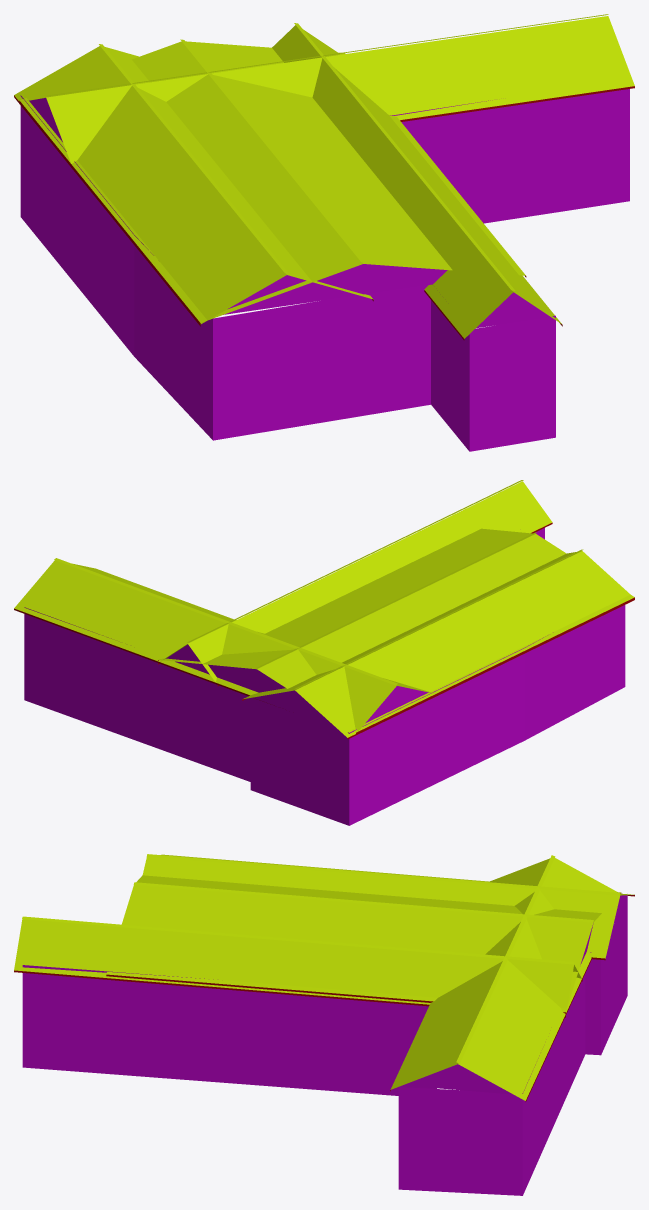
File: sdt_43.glb
3 renders of one model, top to bottom at view 1: azimuth 30°, elevation 25°; view 2: azimuth 150°, elevation 25°; view 3: azimuth 270°, elevation 25°, orthographic. The views are drawn at different scales.
Visible parts, largest first — view 1: sdt_43; view 2: sdt_43; view 3: sdt_43.
Boxes of the visible parts, bbox=[...] form: sdt_43: bbox=[14, 14, 634, 451]; sdt_43: bbox=[14, 480, 634, 825]; sdt_43: bbox=[14, 854, 634, 1195].
Bounding box in the file's own units: 36.79 × 9.3 × 39.41.
